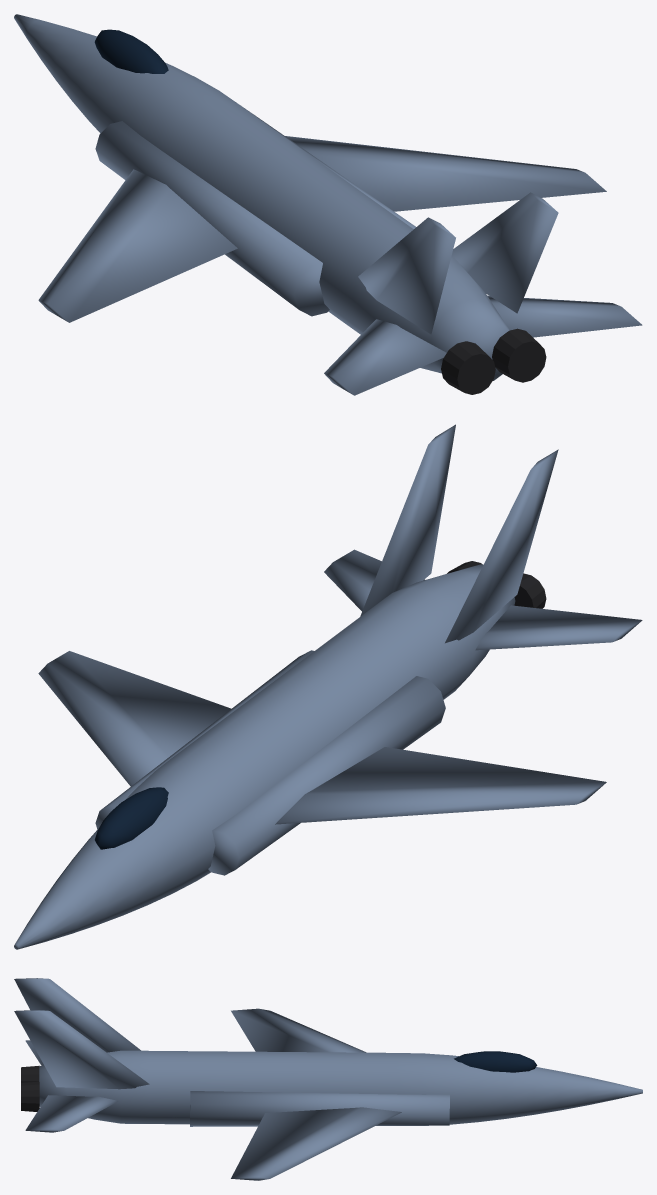
File: mig29.obj
3 renders of one model, top to bottom at view 1: azimuth 30°, elevation 25°; view 2: azimuth 150°, elevation 25°; view 3: azimuth 270°, elevation 25°, orthographic. The views are drawn at different scales.
Parts seen in each view (by area): view 1: Body, Detail, Canopy; view 2: Body, Canopy, Detail; view 3: Body, Canopy, Detail.
Boxes of the visible parts, bbox=[...] form: Body: bbox=[14, 14, 642, 395]; Detail: bbox=[441, 328, 546, 394]; Canopy: bbox=[94, 29, 168, 73]; Body: bbox=[14, 424, 642, 949]; Canopy: bbox=[94, 787, 168, 849]; Detail: bbox=[447, 561, 546, 608]; Body: bbox=[14, 978, 642, 1180]; Canopy: bbox=[454, 1051, 537, 1072]; Detail: bbox=[21, 1065, 39, 1111].
Bounding box in the file's own units: 11.4 × 4.04 × 18.02.
